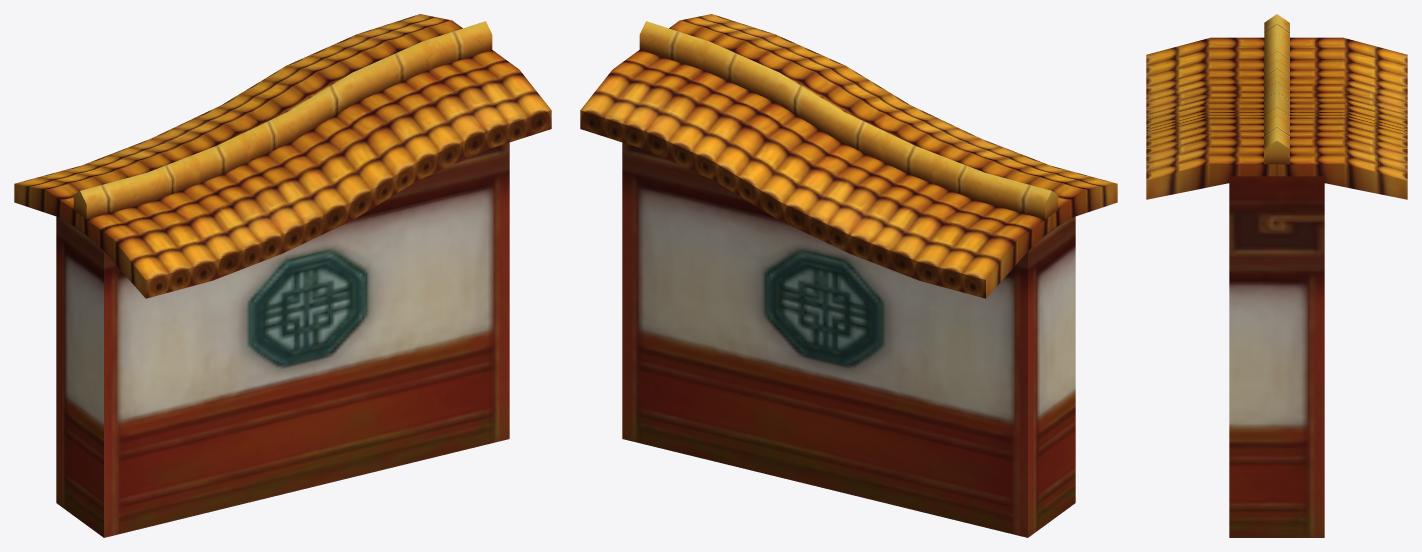
File: Stage_ZhuCheng_WeiQiang01.FBX
3 renders of one model, left to right at view 1: azimuth 30°, elevation 25°; view 2: azimuth 150°, elevation 25°; view 3: azimuth 270°, elevation 25°, orthographic.
Visible parts, largest first — view 1: Stage_ZhuCheng_WeiQiang01; view 2: Stage_ZhuCheng_WeiQiang01; view 3: Stage_ZhuCheng_WeiQiang01.
Boxes of the visible parts, <box> form: Stage_ZhuCheng_WeiQiang01: <box>14,14,551,537</box>; Stage_ZhuCheng_WeiQiang01: <box>580,14,1117,537</box>; Stage_ZhuCheng_WeiQiang01: <box>1146,14,1407,537</box>.
Size of the model in its own units: 196 by 185 by 110.
